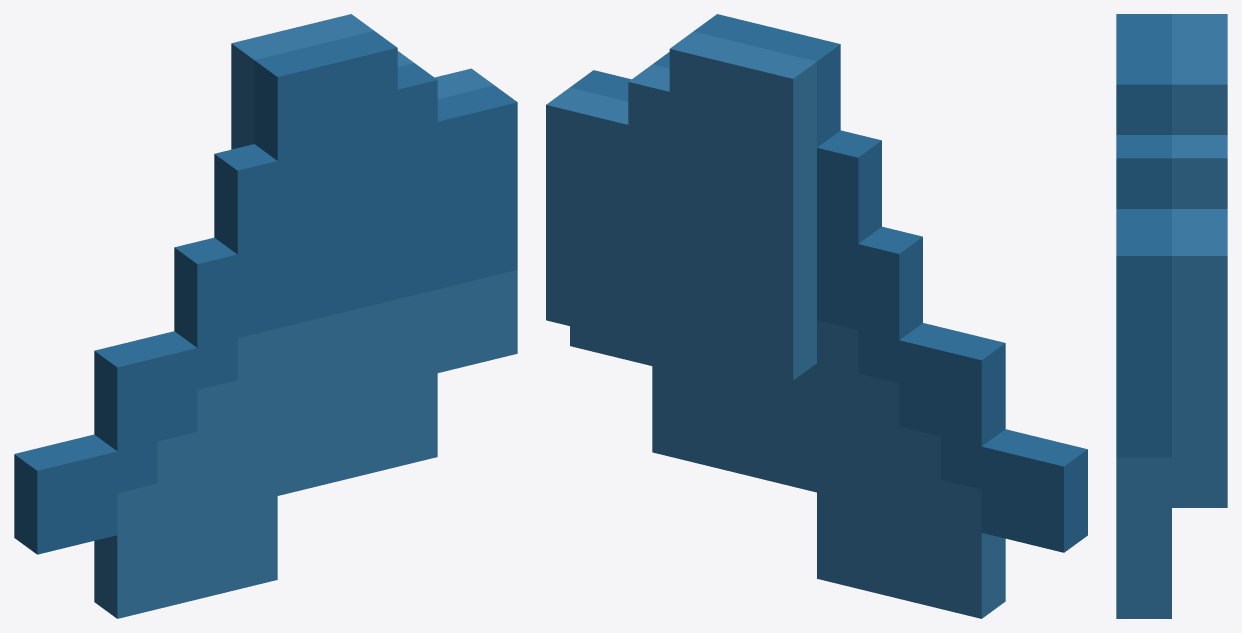
The model's file is bird_1_right_wing.dae.
3 views of the same model, side by side, from view 1: azimuth 30°, elevation 25°; view 2: azimuth 150°, elevation 25°; view 3: azimuth 270°, elevation 25° (orthographic). The views are drawn at different scales.
Parts seen in each view (by area): view 1: PlaneCOL; view 2: PlaneCOL; view 3: PlaneCOL.
Part boxes in pixels (box(x1,y1,x2,y2)): PlaneCOL: box(14, 14, 517, 618); PlaneCOL: box(546, 14, 1087, 618); PlaneCOL: box(1116, 14, 1227, 618).
Bounding box in the file's own units: 1.2 × 0.2 × 1.2.
